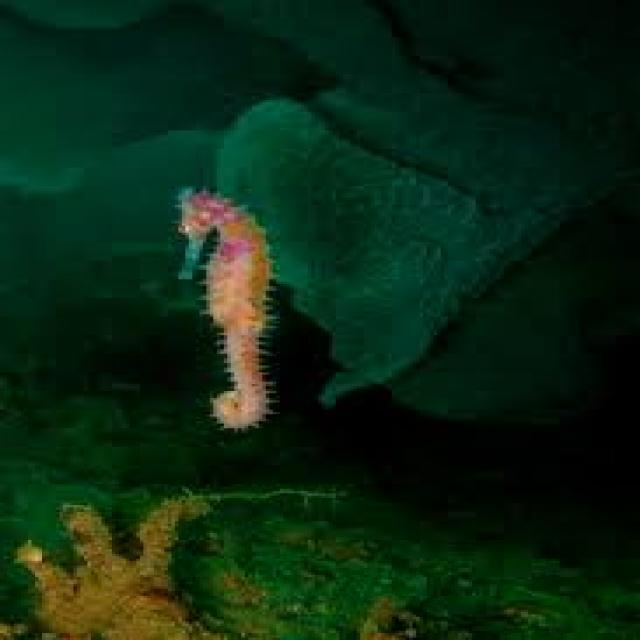SeaHorse: (182, 191, 276, 433)
